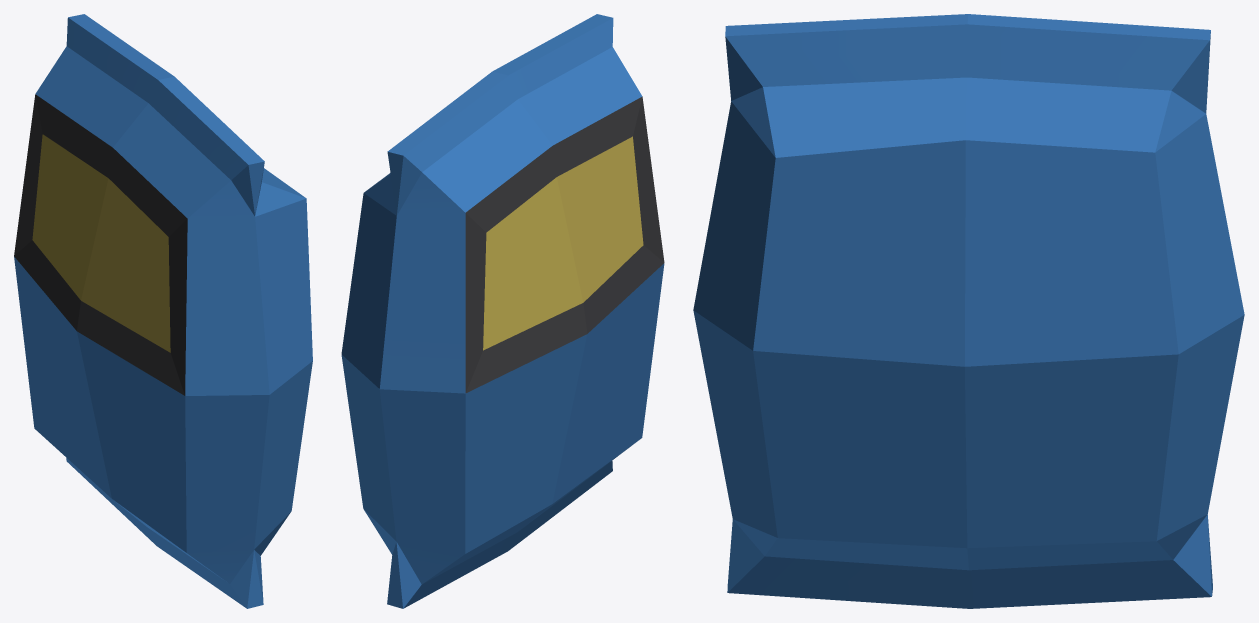
File: SM_Prop_Snack_03.obj
The picture shows the model from 3 angles, left to right: view 1: azimuth 30°, elevation 25°; view 2: azimuth 150°, elevation 25°; view 3: azimuth 270°, elevation 25°; orthographic projection. The views are drawn at different scales.
Parts seen in each view (by area): view 1: SM_Prop_Snack_03_0; view 2: SM_Prop_Snack_03_0; view 3: SM_Prop_Snack_03_0.
Boxes of the visible parts, x1,y1,x2,y2 form: SM_Prop_Snack_03_0: (14,14,312,608); SM_Prop_Snack_03_0: (341,14,664,608); SM_Prop_Snack_03_0: (693,14,1244,608).
Size of the model in its own units: 0.077 by 0.194 by 0.1655.
Materials: 1 (1 with a texture image).
